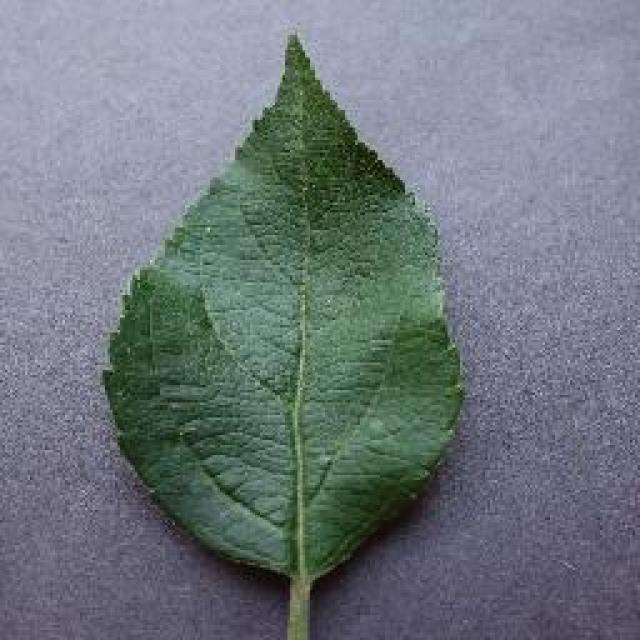apple healthy: (98, 28, 468, 638)
